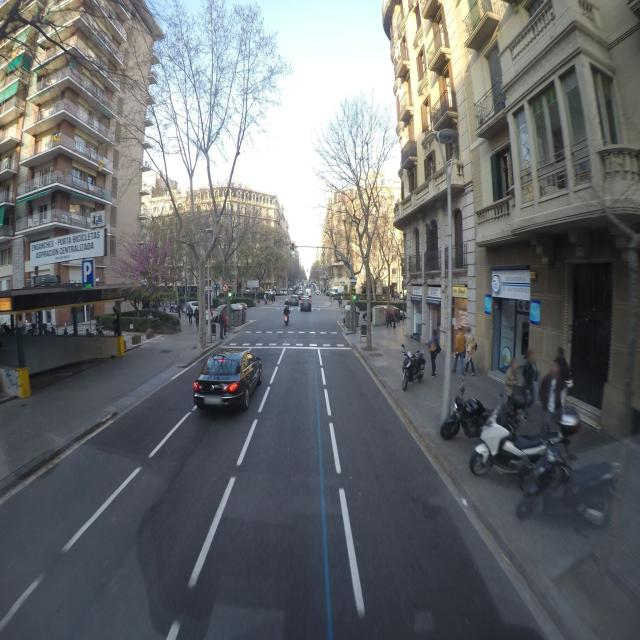bike: (467, 359, 578, 483), (514, 419, 621, 528), (401, 334, 428, 392)
car: (192, 350, 262, 412), (210, 301, 248, 326), (299, 296, 312, 312)
